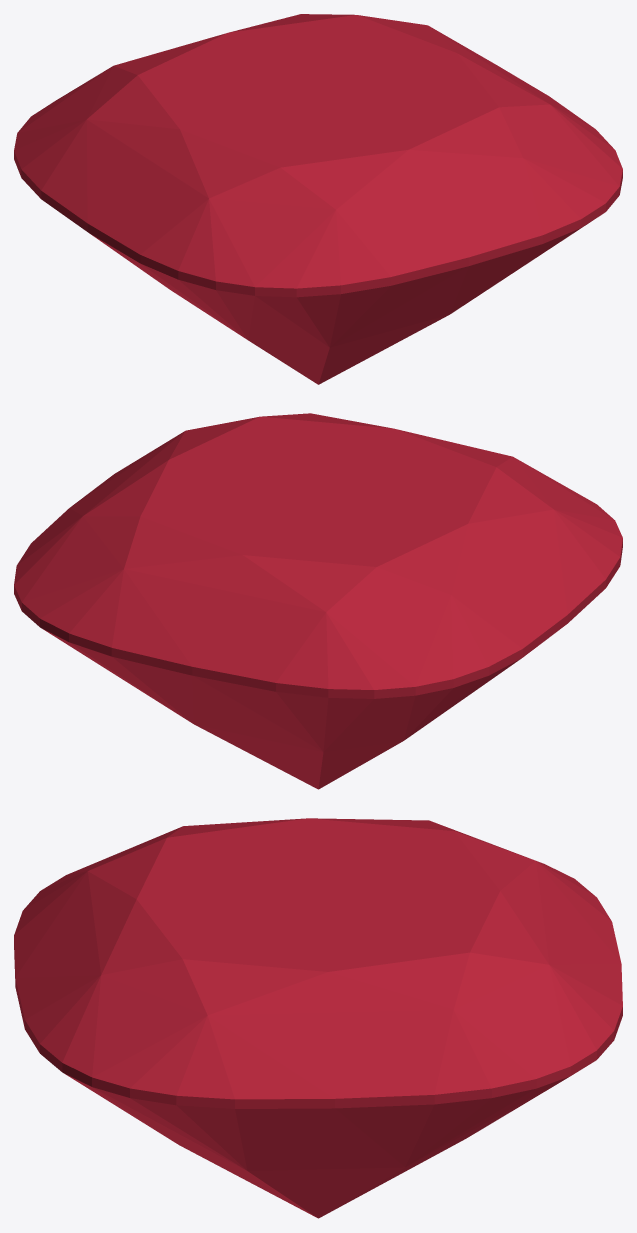
Rendered from stone-garnet.glb.
3 renders of one model, top to bottom at view 1: azimuth 30°, elevation 25°; view 2: azimuth 150°, elevation 25°; view 3: azimuth 270°, elevation 25°, orthographic. The views are drawn at different scales.
Visible parts, largest first — view 1: Gemstone Garnet; view 2: Gemstone Garnet; view 3: Gemstone Garnet.
Part boxes in pixels (x1,y1,x2,y2): Gemstone Garnet: (14, 14, 622, 384); Gemstone Garnet: (14, 413, 622, 789); Gemstone Garnet: (14, 818, 622, 1218).
Bounding box in the file's own units: 2.01 × 1.18 × 2.01.
